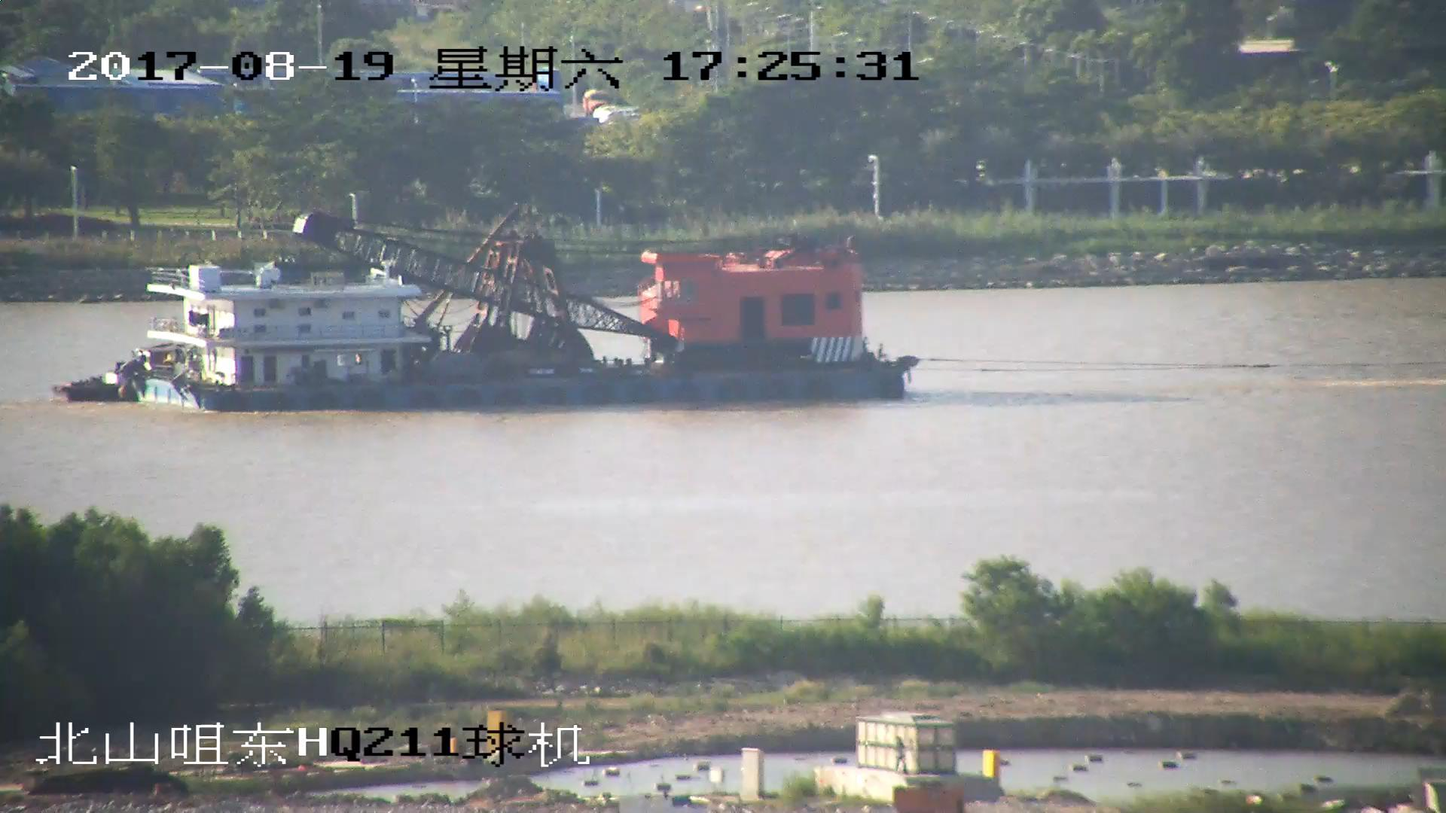fishing boat: (59, 213, 917, 417)
